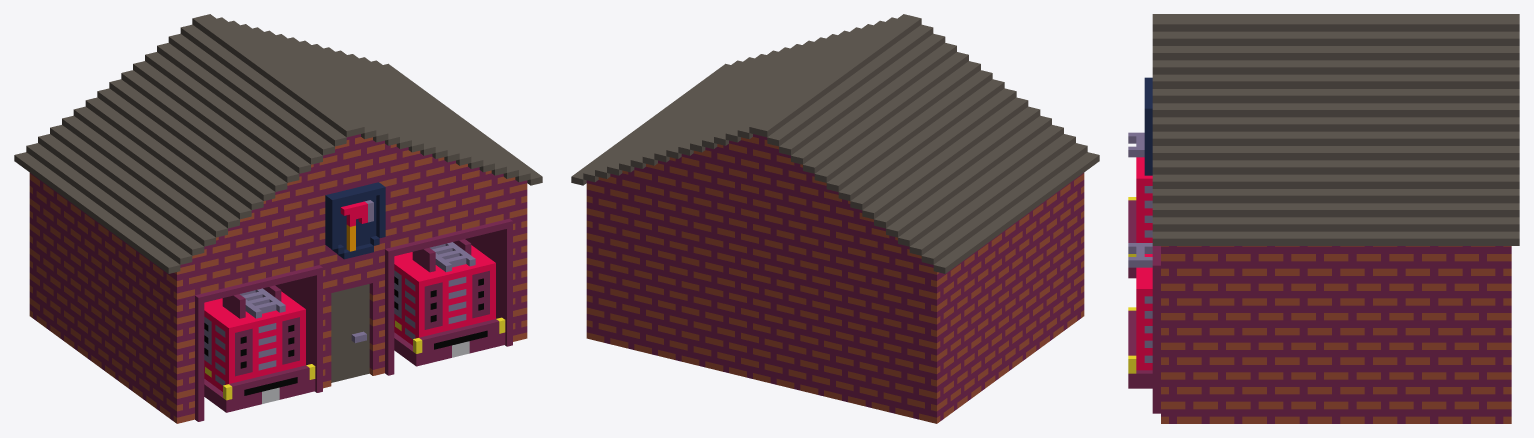
File: fire_department_a.obj
3 views of the same model, side by side, from view 1: azimuth 30°, elevation 25°; view 2: azimuth 150°, elevation 25°; view 3: azimuth 270°, elevation 25° (orthographic). The views are drawn at different scales.
Bounding box in the file's own units: 6.3 × 4.1 × 4.8.
1 material, 1 textured.
